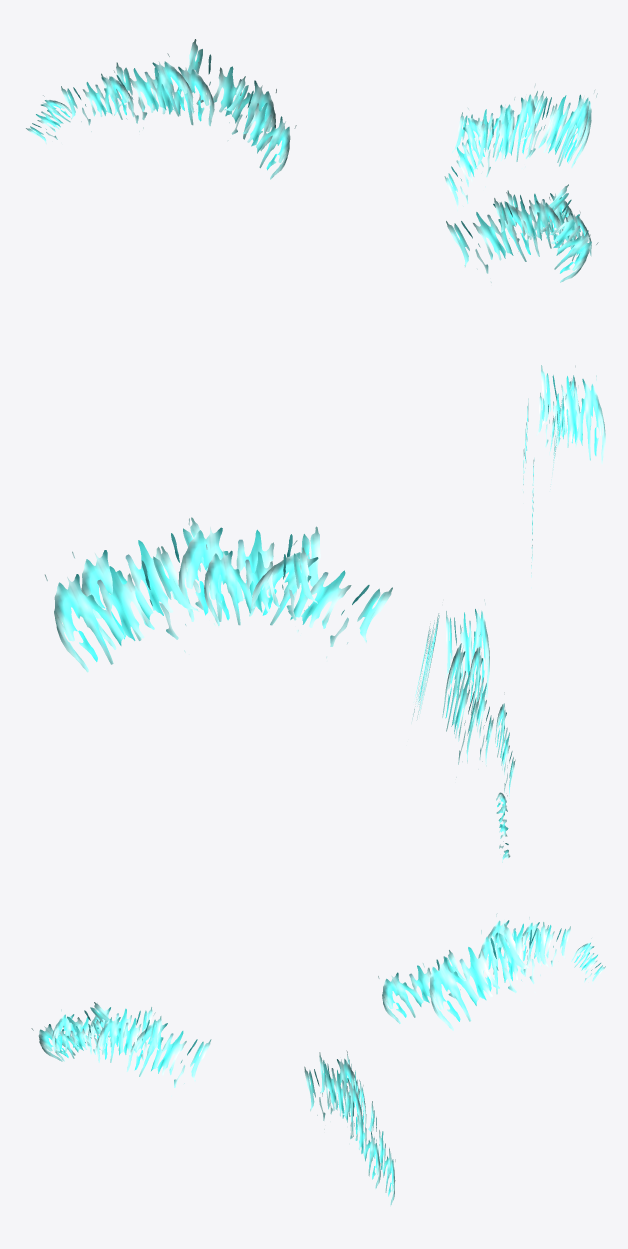
File: Arvore1Folha.fbx
3 views of the same model, one above another, from view 1: azimuth 30°, elevation 25°; view 2: azimuth 150°, elevation 25°; view 3: azimuth 270°, elevation 25° (orthographic). The views are drawn at different scales.
Visible parts, largest first — view 1: LOD_0; view 2: LOD_0; view 3: LOD_0.
Boxes of the visible parts, x1=… form: LOD_0: x1=26, y1=39, x2=598, y2=282; LOD_0: x1=44, y1=365, x2=605, y2=862; LOD_0: x1=31, y1=913, x2=605, y2=1206.
Size of what is drawn, in the model's own units: 237 by 282 by 101.
